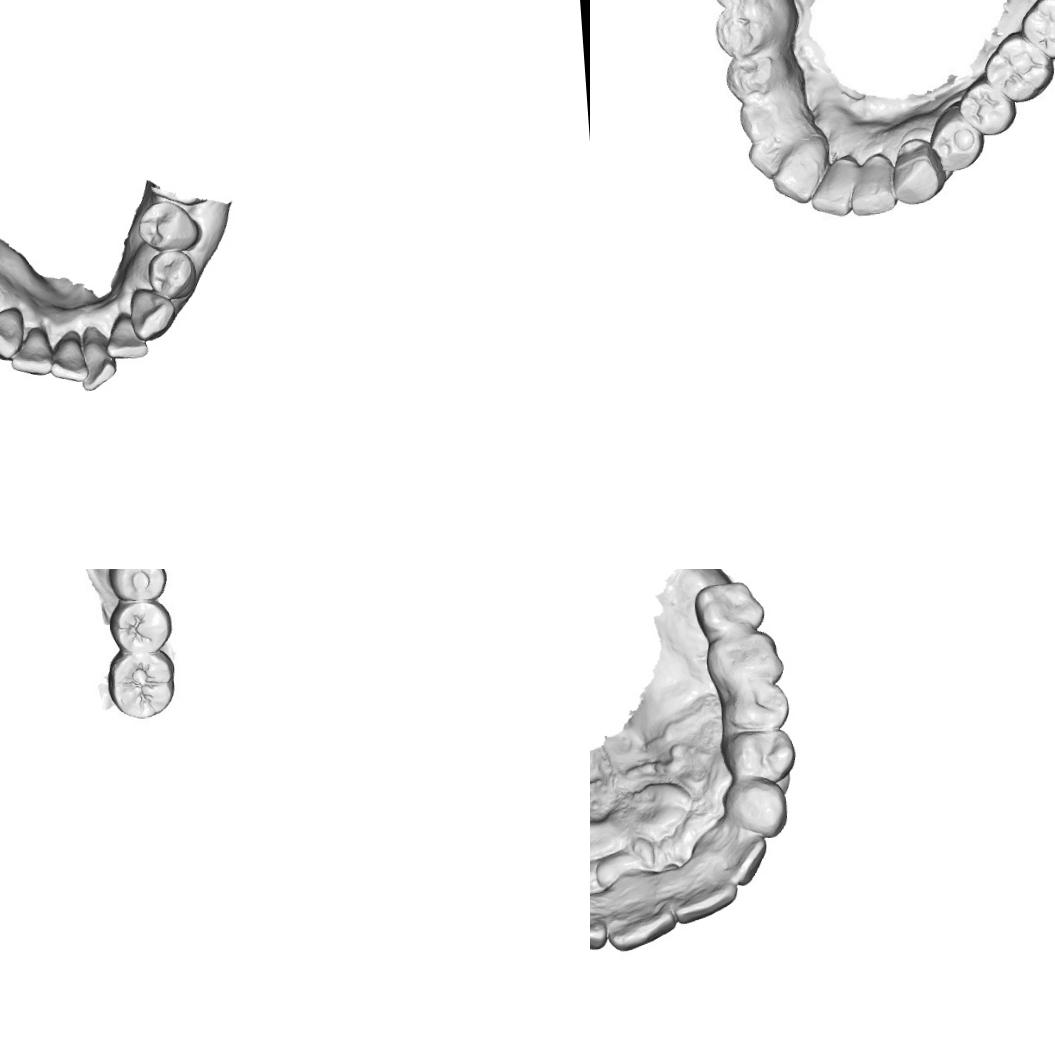canine: (718, 770, 792, 842), (738, 86, 806, 145), (890, 140, 944, 206), (125, 284, 176, 343), (0, 305, 26, 360)
incisor: (602, 878, 678, 954), (666, 857, 739, 926), (700, 824, 770, 890), (768, 142, 828, 207), (846, 156, 902, 218), (742, 130, 806, 181), (806, 159, 856, 218), (7, 324, 56, 377), (102, 308, 150, 362), (78, 336, 118, 390), (48, 332, 88, 384), (590, 892, 614, 953)
molar: (701, 626, 787, 697), (686, 576, 772, 644), (984, 32, 1052, 100), (109, 652, 176, 719), (1023, 0, 1055, 62)
premolar: (716, 722, 797, 788), (717, 678, 796, 735), (711, 0, 776, 62), (133, 197, 199, 254), (958, 79, 1019, 138), (928, 110, 984, 172), (722, 49, 784, 102), (144, 247, 200, 303), (112, 600, 172, 652), (110, 569, 170, 599)
